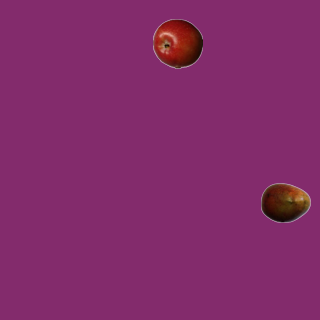Apple Braeburn: (152, 18, 202, 68)
Mango Red: (260, 177, 310, 227)
